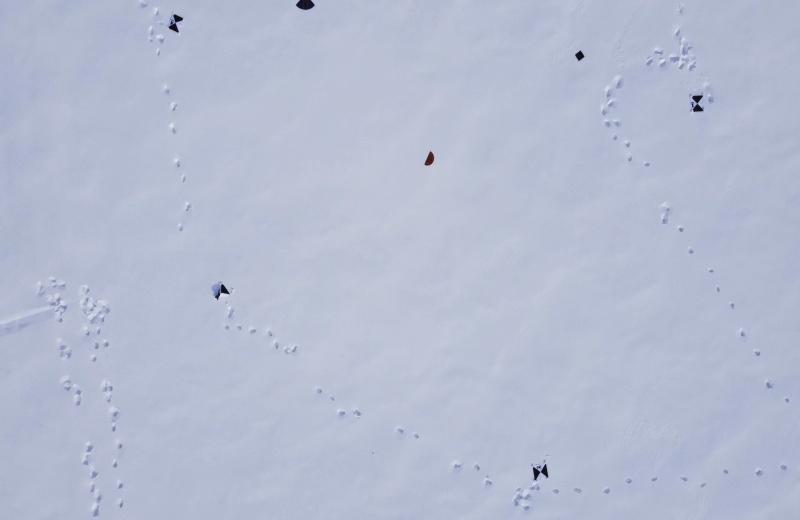Quarter Circle: (295, 0, 316, 11)
Semi Circle: (423, 150, 435, 166)
Square: (575, 49, 585, 62)
